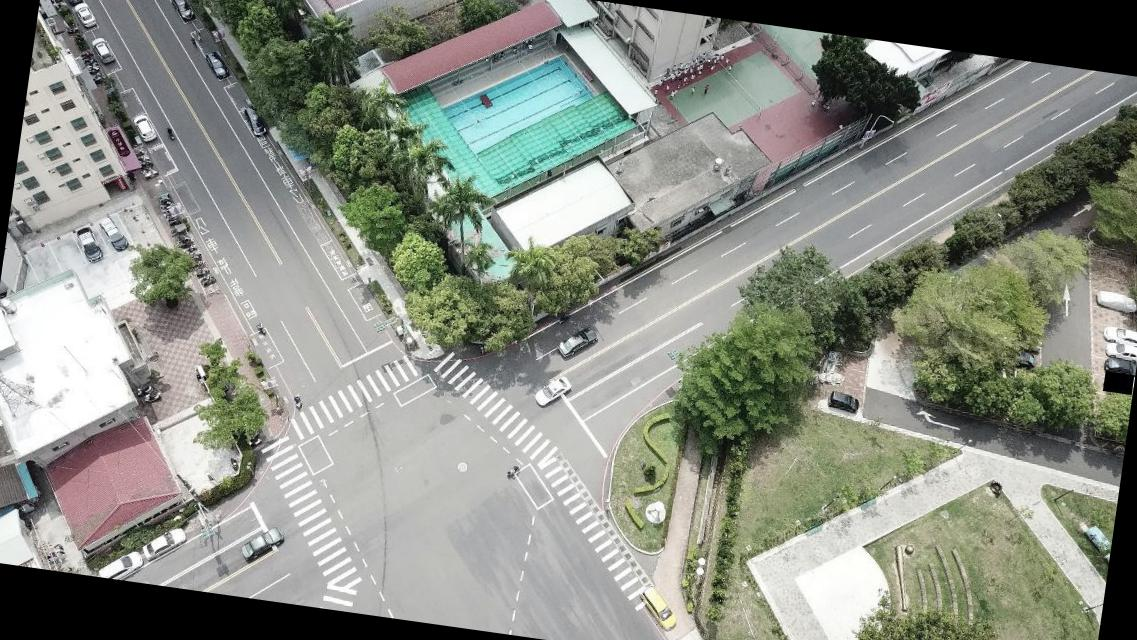vehicle: (140, 521, 188, 567), (239, 522, 286, 566), (637, 586, 680, 630), (94, 547, 144, 582), (556, 321, 600, 360), (95, 214, 133, 253), (534, 372, 572, 410), (72, 224, 106, 264), (241, 104, 270, 137), (130, 112, 160, 142), (202, 49, 232, 79), (88, 36, 116, 65), (1100, 324, 1136, 345), (72, 1, 100, 28), (828, 391, 860, 412), (169, 0, 198, 23), (1103, 342, 1136, 361), (1102, 358, 1136, 376), (59, 0, 84, 8)
